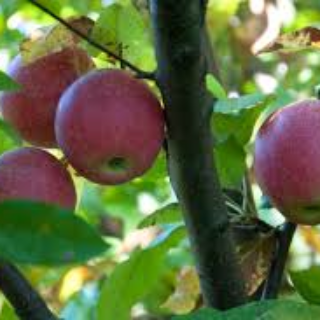tao: (54, 64, 163, 190)
